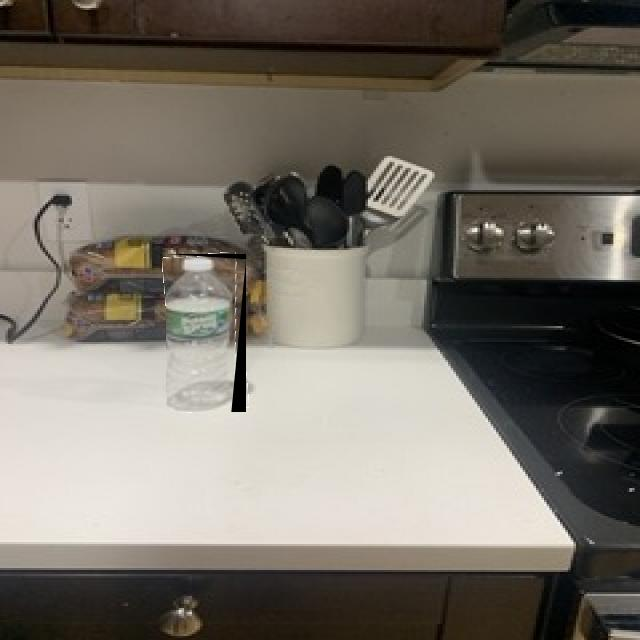water_bottle: (166, 254, 246, 412)
